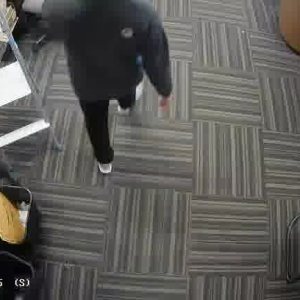person: (68, 0, 159, 171)
